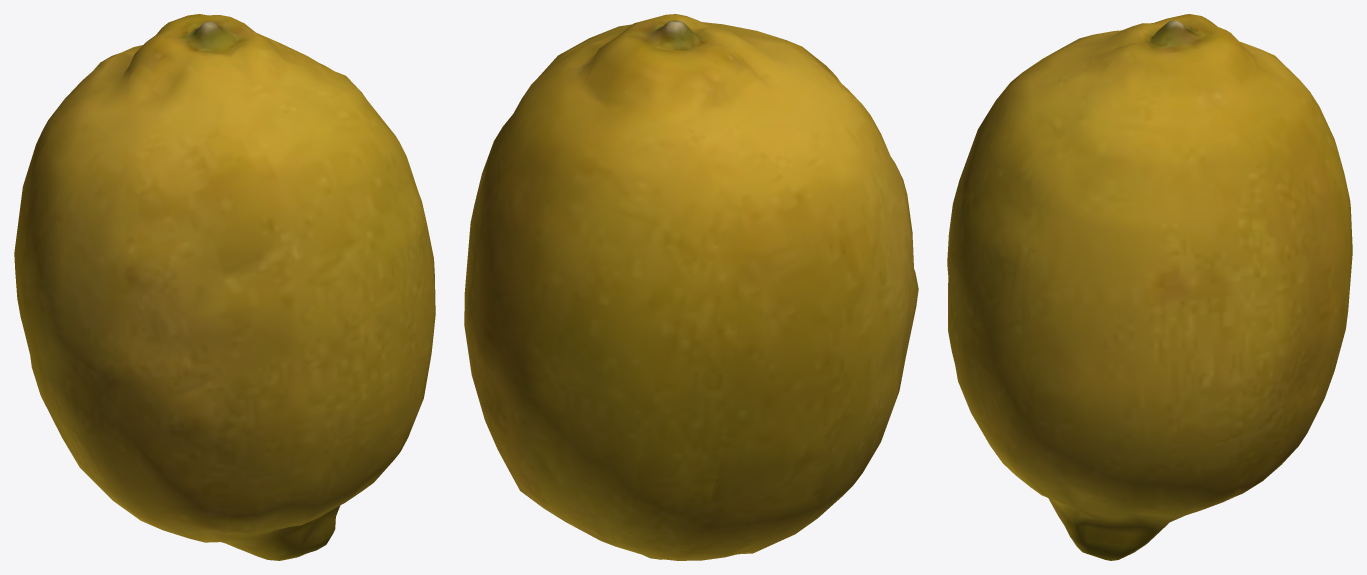
Rendered from lemon.glb.
3 views of the same model, side by side, from view 1: azimuth 30°, elevation 25°; view 2: azimuth 150°, elevation 25°; view 3: azimuth 270°, elevation 25° (orthographic). The views are drawn at different scales.
Parts seen in each view (by area): view 1: lemon; view 2: lemon; view 3: lemon.
Part boxes in pixels (x1,y1,x2,y2): lemon: (14,14,435,560); lemon: (464,14,918,560); lemon: (947,14,1352,560).
Size of the model in its own units: 0.0686 by 0.0953 by 0.0682.
1 material, 1 textured.
